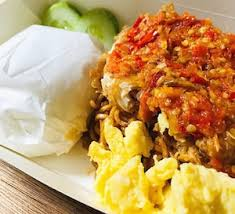ayam_geprek: (94, 11, 235, 154)
